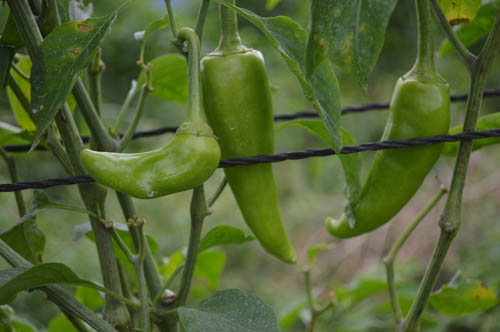ChiliPepper: (324, 83, 451, 256), (197, 53, 291, 270), (72, 137, 222, 220)
